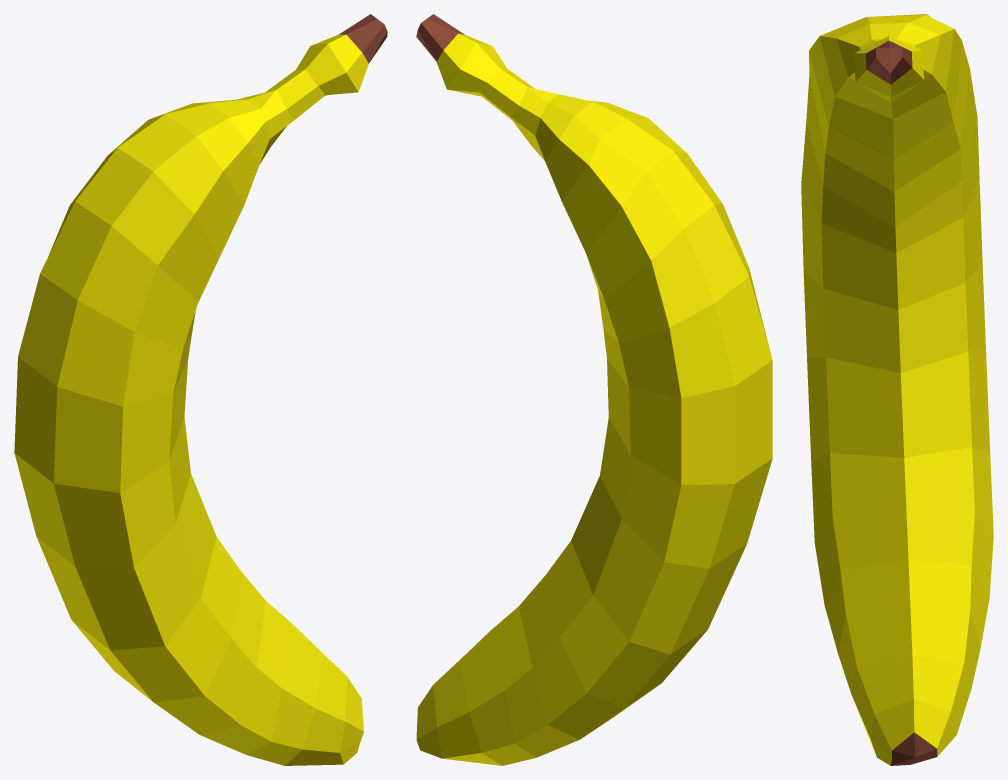
Rendered from banana.fbx.
3 renders of one model, left to right at view 1: azimuth 30°, elevation 25°; view 2: azimuth 150°, elevation 25°; view 3: azimuth 270°, elevation 25°, orthographic.
Parts seen in each view (by area): view 1: Cube.003; view 2: Cube.003; view 3: Cube.003.
Part boxes in pixels (x1,y1,x2,y2): Cube.003: (14,14,387,765); Cube.003: (416,14,772,765); Cube.003: (801,14,993,765).
Size of the model in its own units: 75.31 by 151 by 36.21.
